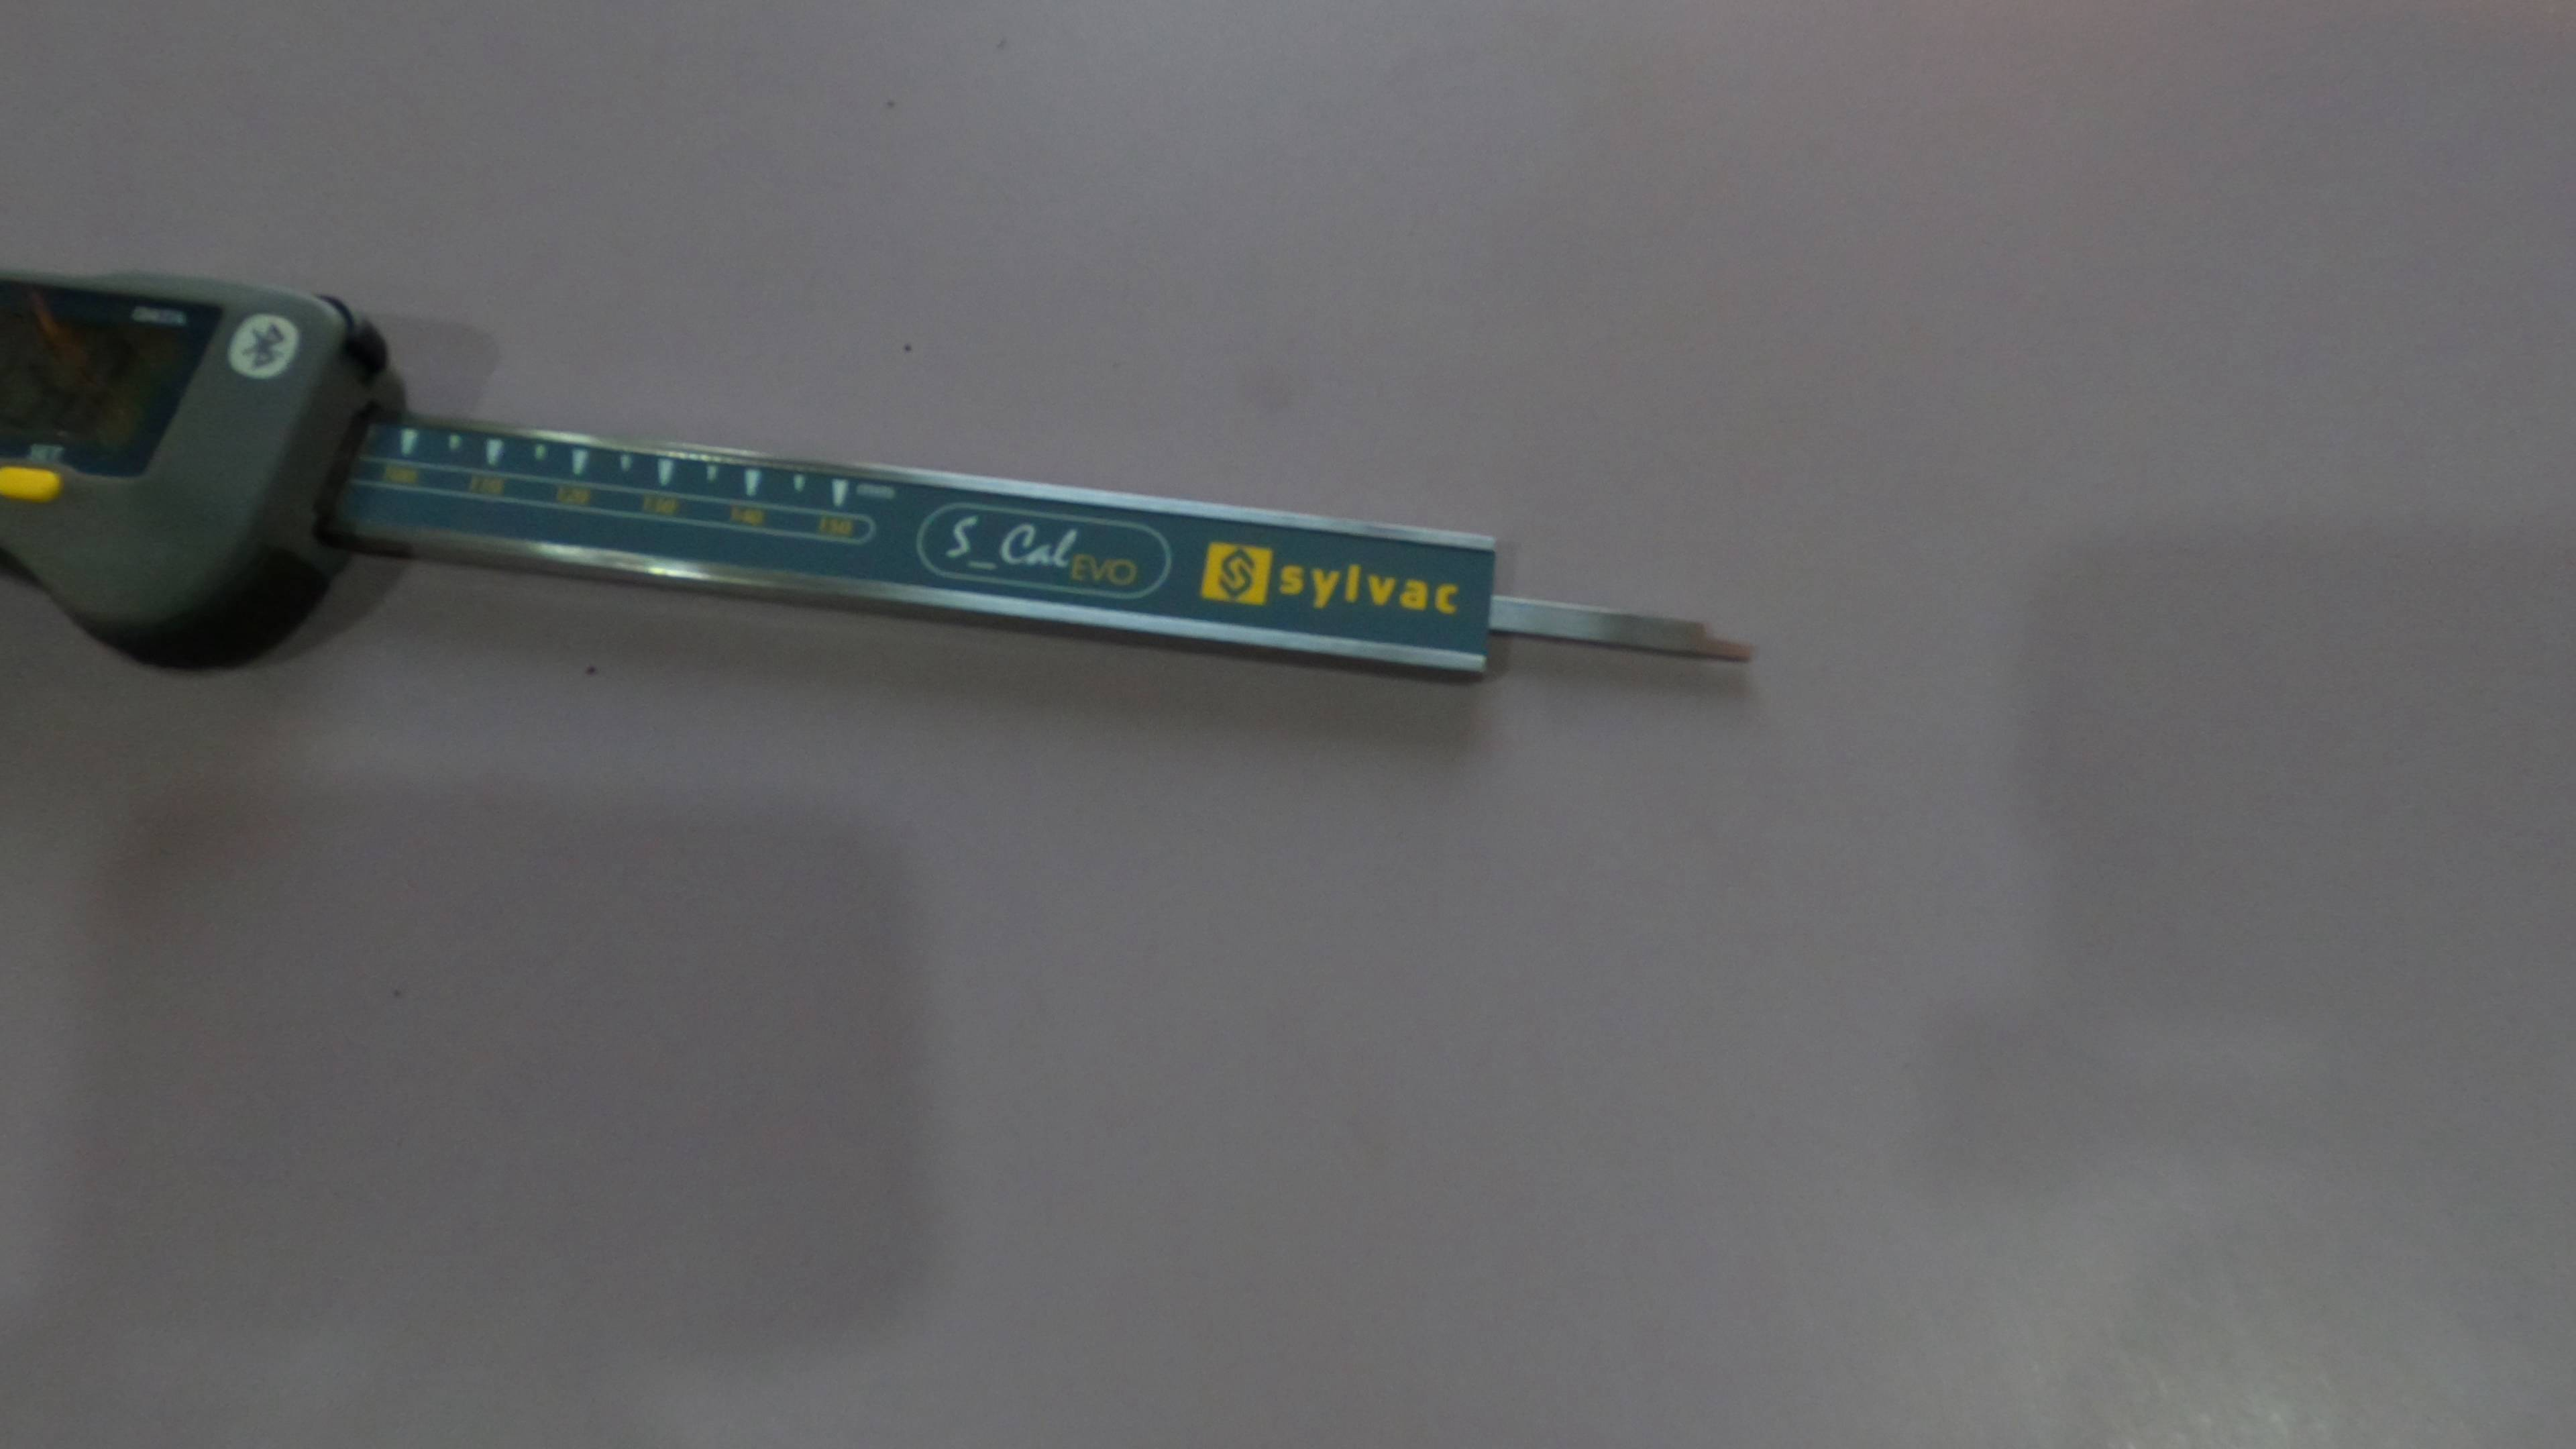vernier_caliper: (7, 221, 1757, 709)
